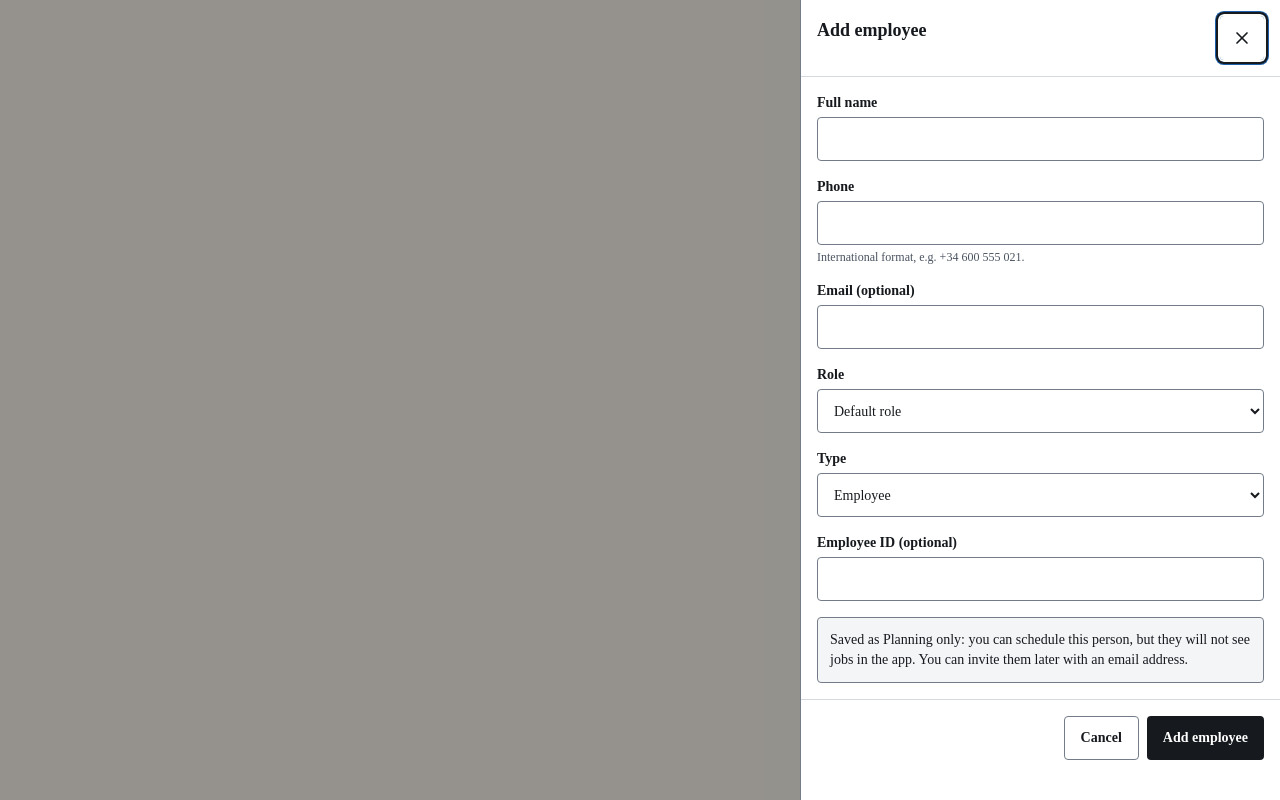
Add / Edit employee drawer: the name can't be an email (d886968d) › add: a blank name is refused
Click the button "Add employee".
click(1205, 738)  # box [1147,716,1264,760]
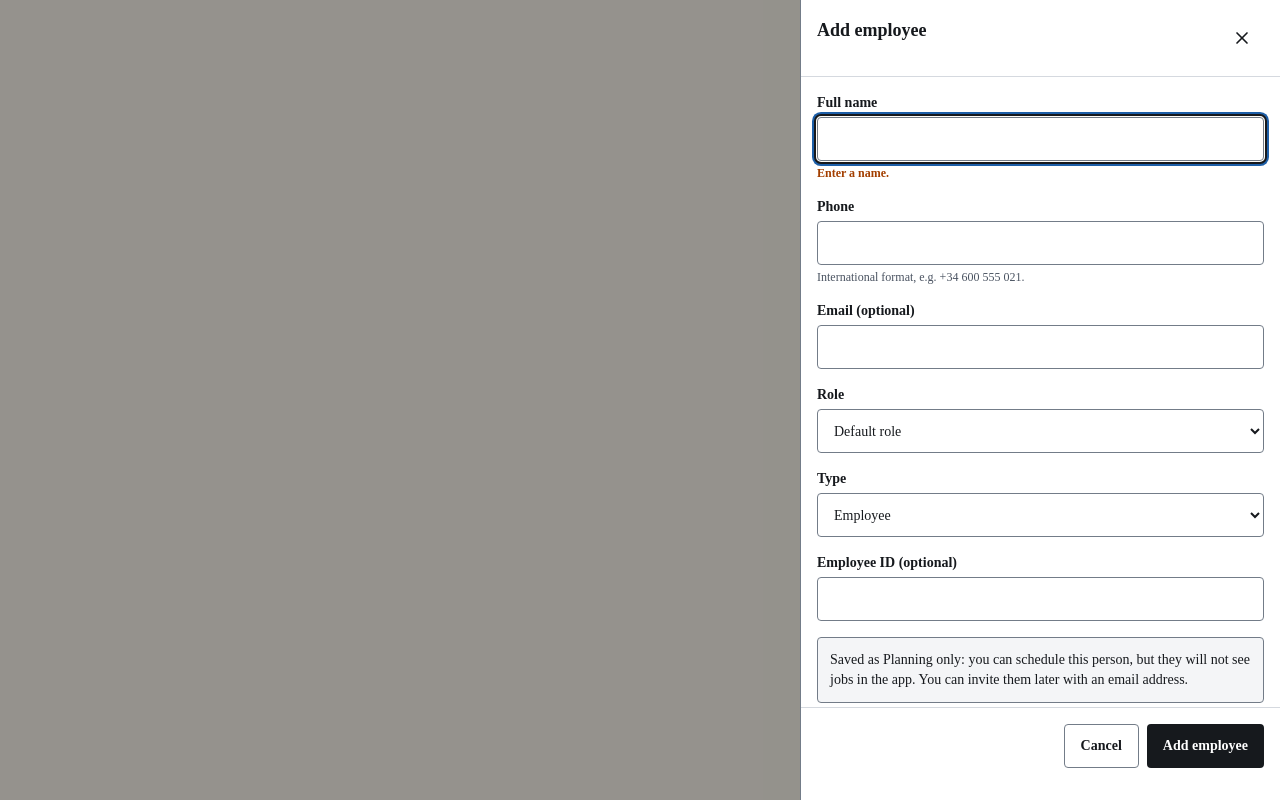
Expected: the text "Enter a name." is shown, [817,166,889,180]
